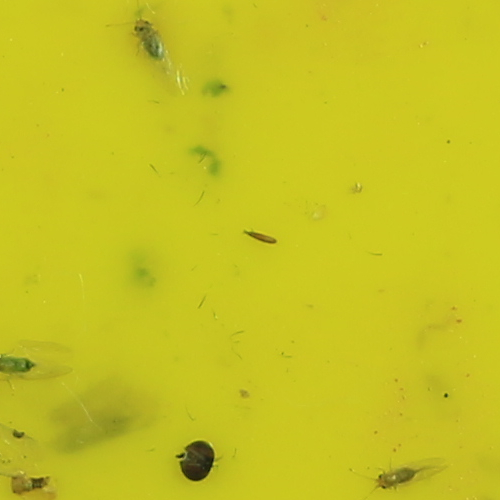Glycaspis: (131, 12, 166, 65), (378, 464, 425, 487)
